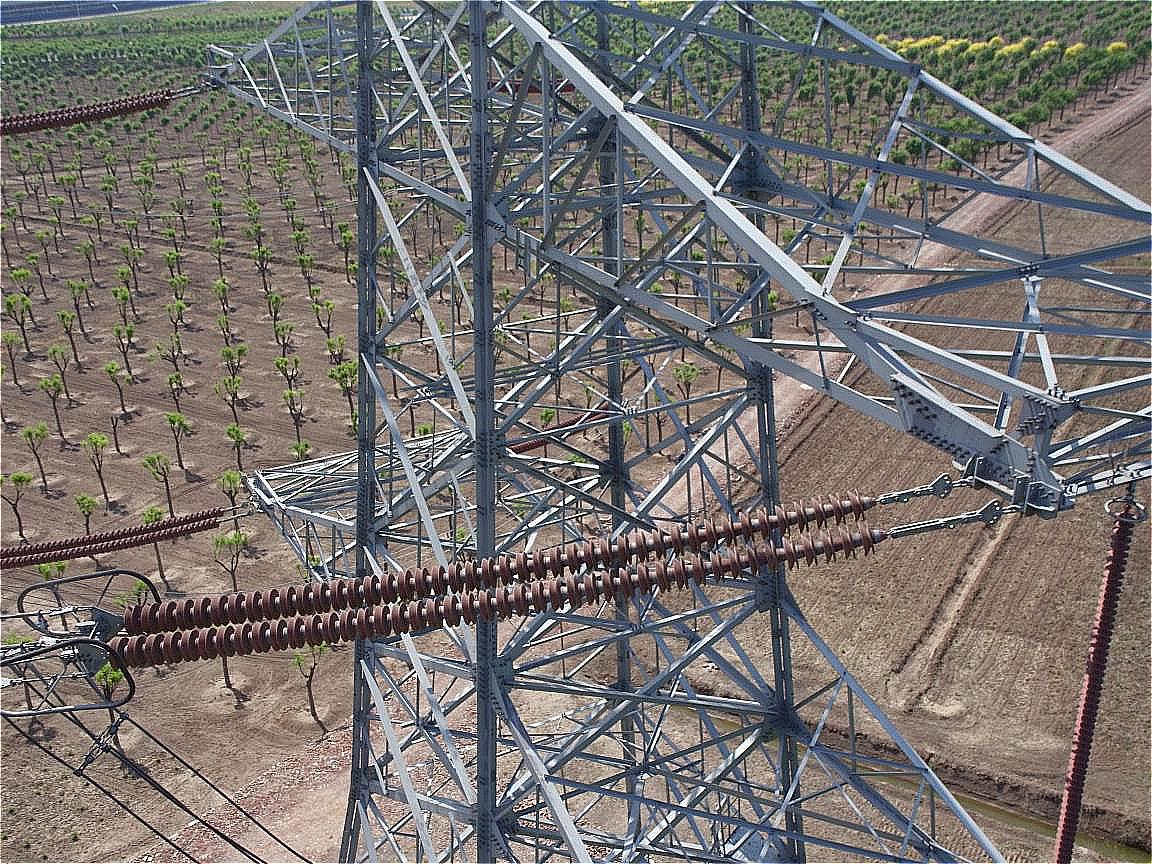insultor1: (1, 511, 225, 580), (1, 87, 182, 153)
insultor2: (114, 478, 902, 671)
